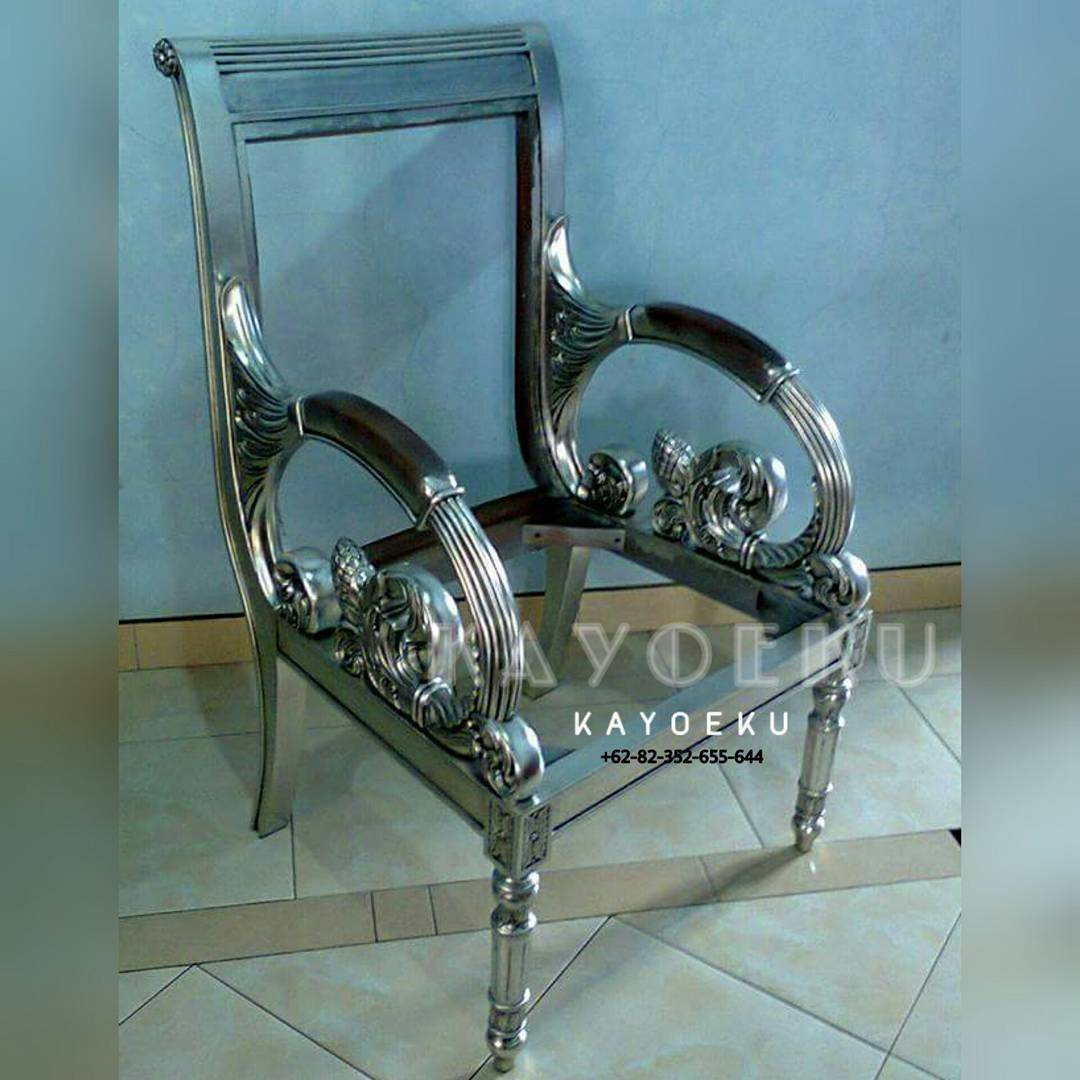Carving Chair: (166, 35, 877, 1056)
